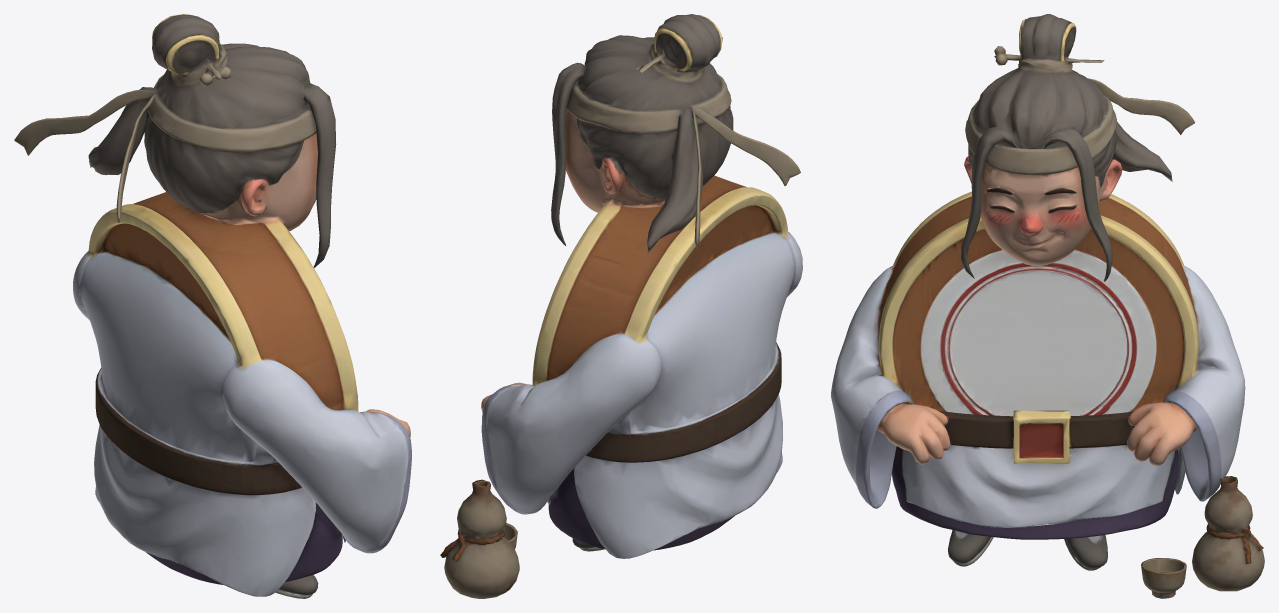
Rendered from c_weijin.glb.
The picture shows the model from 3 angles, left to right: view 1: azimuth 30°, elevation 25°; view 2: azimuth 150°, elevation 25°; view 3: azimuth 270°, elevation 25°; orthographic projection. The views are drawn at different scales.
Parts seen in each view (by area): view 1: tripo_node_ffce4d51-18e5-4bb2-9bdb-f36f29f6db0d; view 2: tripo_node_ffce4d51-18e5-4bb2-9bdb-f36f29f6db0d; view 3: tripo_node_ffce4d51-18e5-4bb2-9bdb-f36f29f6db0d.
Part boxes in pixels (x1=…): tripo_node_ffce4d51-18e5-4bb2-9bdb-f36f29f6db0d: x1=14, y1=14, x2=411, y2=598; tripo_node_ffce4d51-18e5-4bb2-9bdb-f36f29f6db0d: x1=440, y1=14, x2=802, y2=598; tripo_node_ffce4d51-18e5-4bb2-9bdb-f36f29f6db0d: x1=831, y1=14, x2=1264, y2=598.
Size of the model in its own units: 0.4666 by 0.9808 by 0.7484.
Materials: 1 (1 with a texture image).
